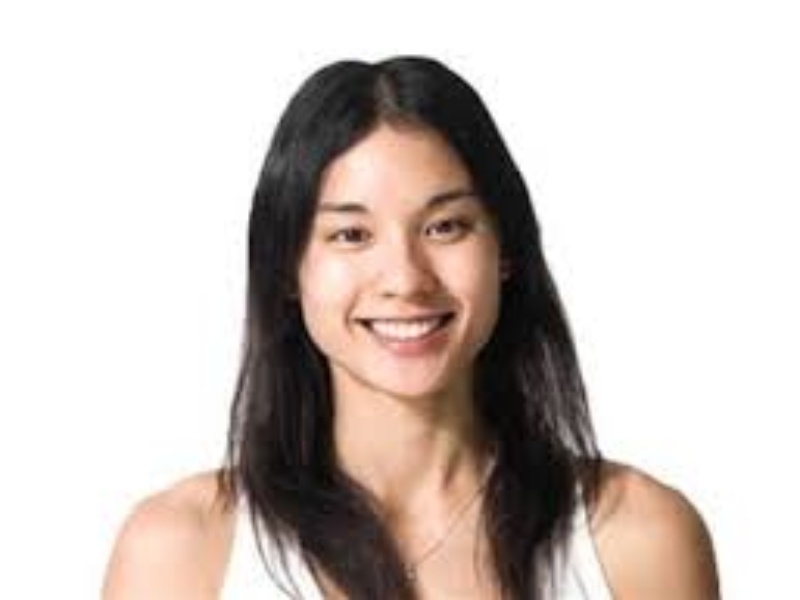face: (306, 176, 492, 364)
